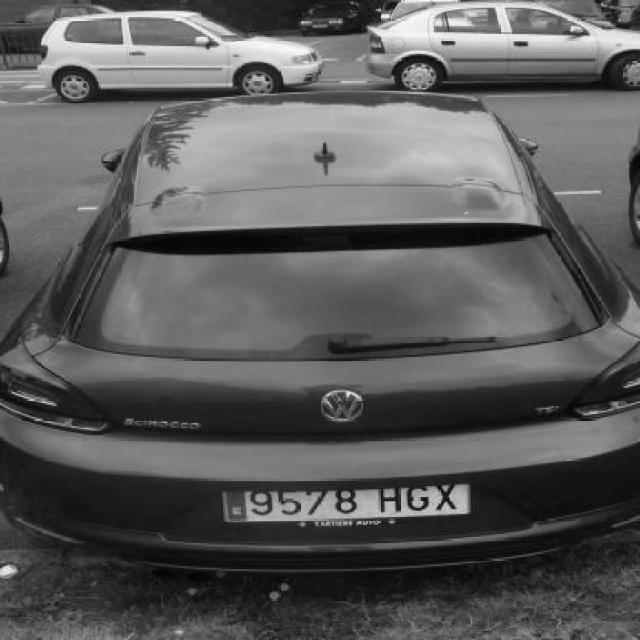car: (0, 94, 640, 572), (38, 11, 324, 100), (358, 0, 640, 88)
license-plate: (224, 481, 470, 517)
